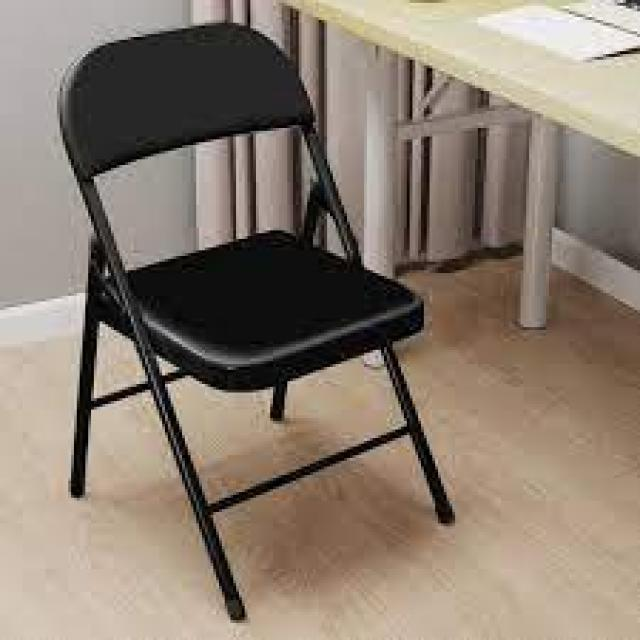chair: (30, 17, 519, 620)
